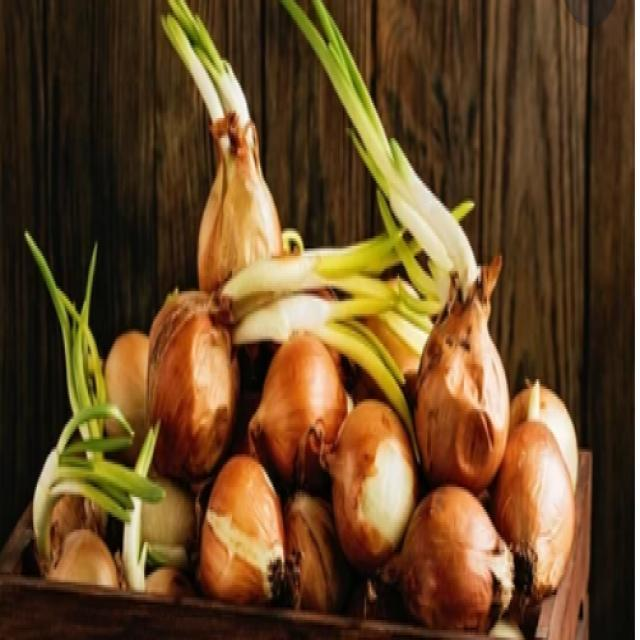rotten: (455, 362, 502, 494), (258, 504, 288, 594)
sprouting: (348, 95, 473, 266), (210, 264, 396, 342), (158, 20, 255, 151), (30, 368, 66, 562)
